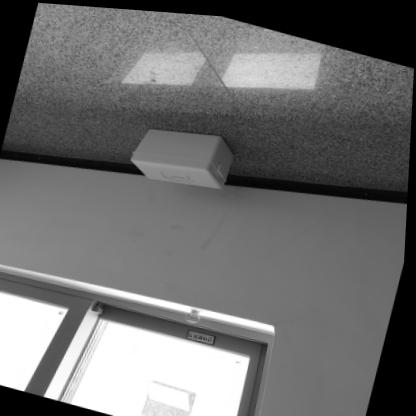DDL: (126, 109, 242, 196)
